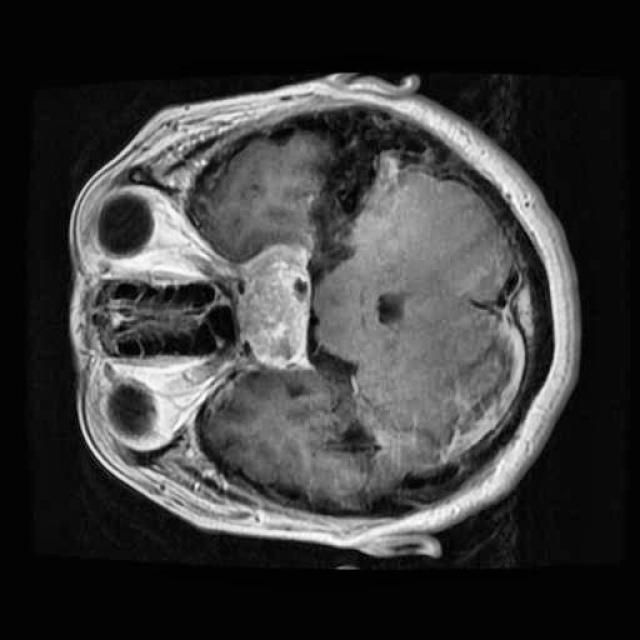Tumor: (224, 229, 318, 385)
